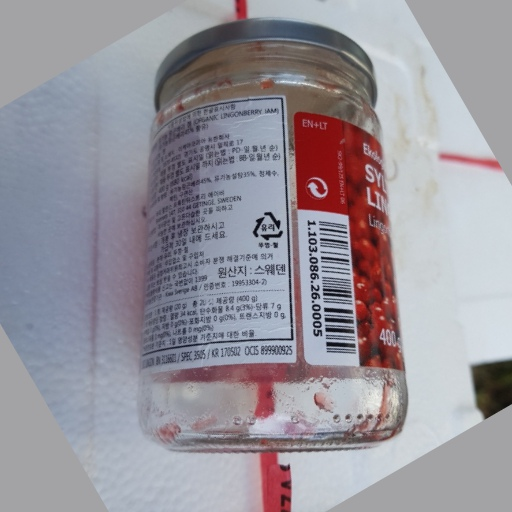Glass_5: (135, 22, 409, 459)
